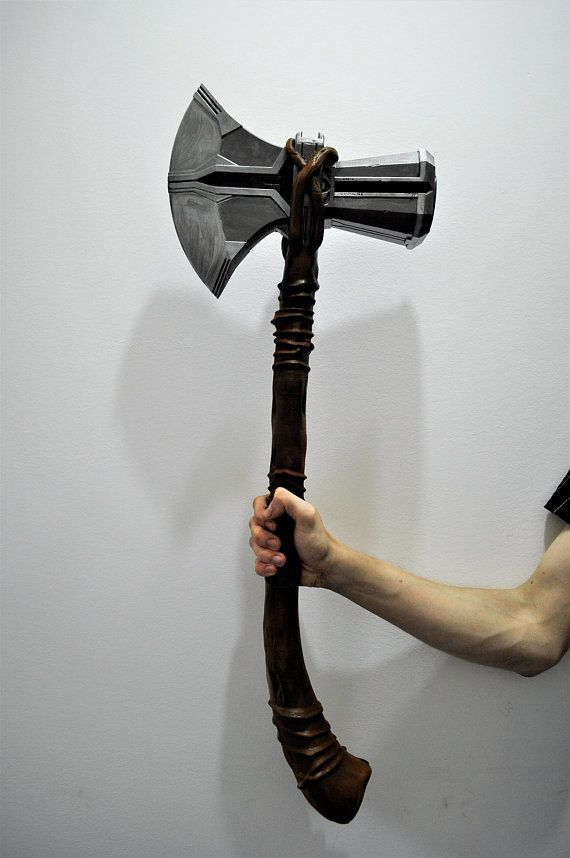THOR Hammer: (158, 57, 472, 829)
